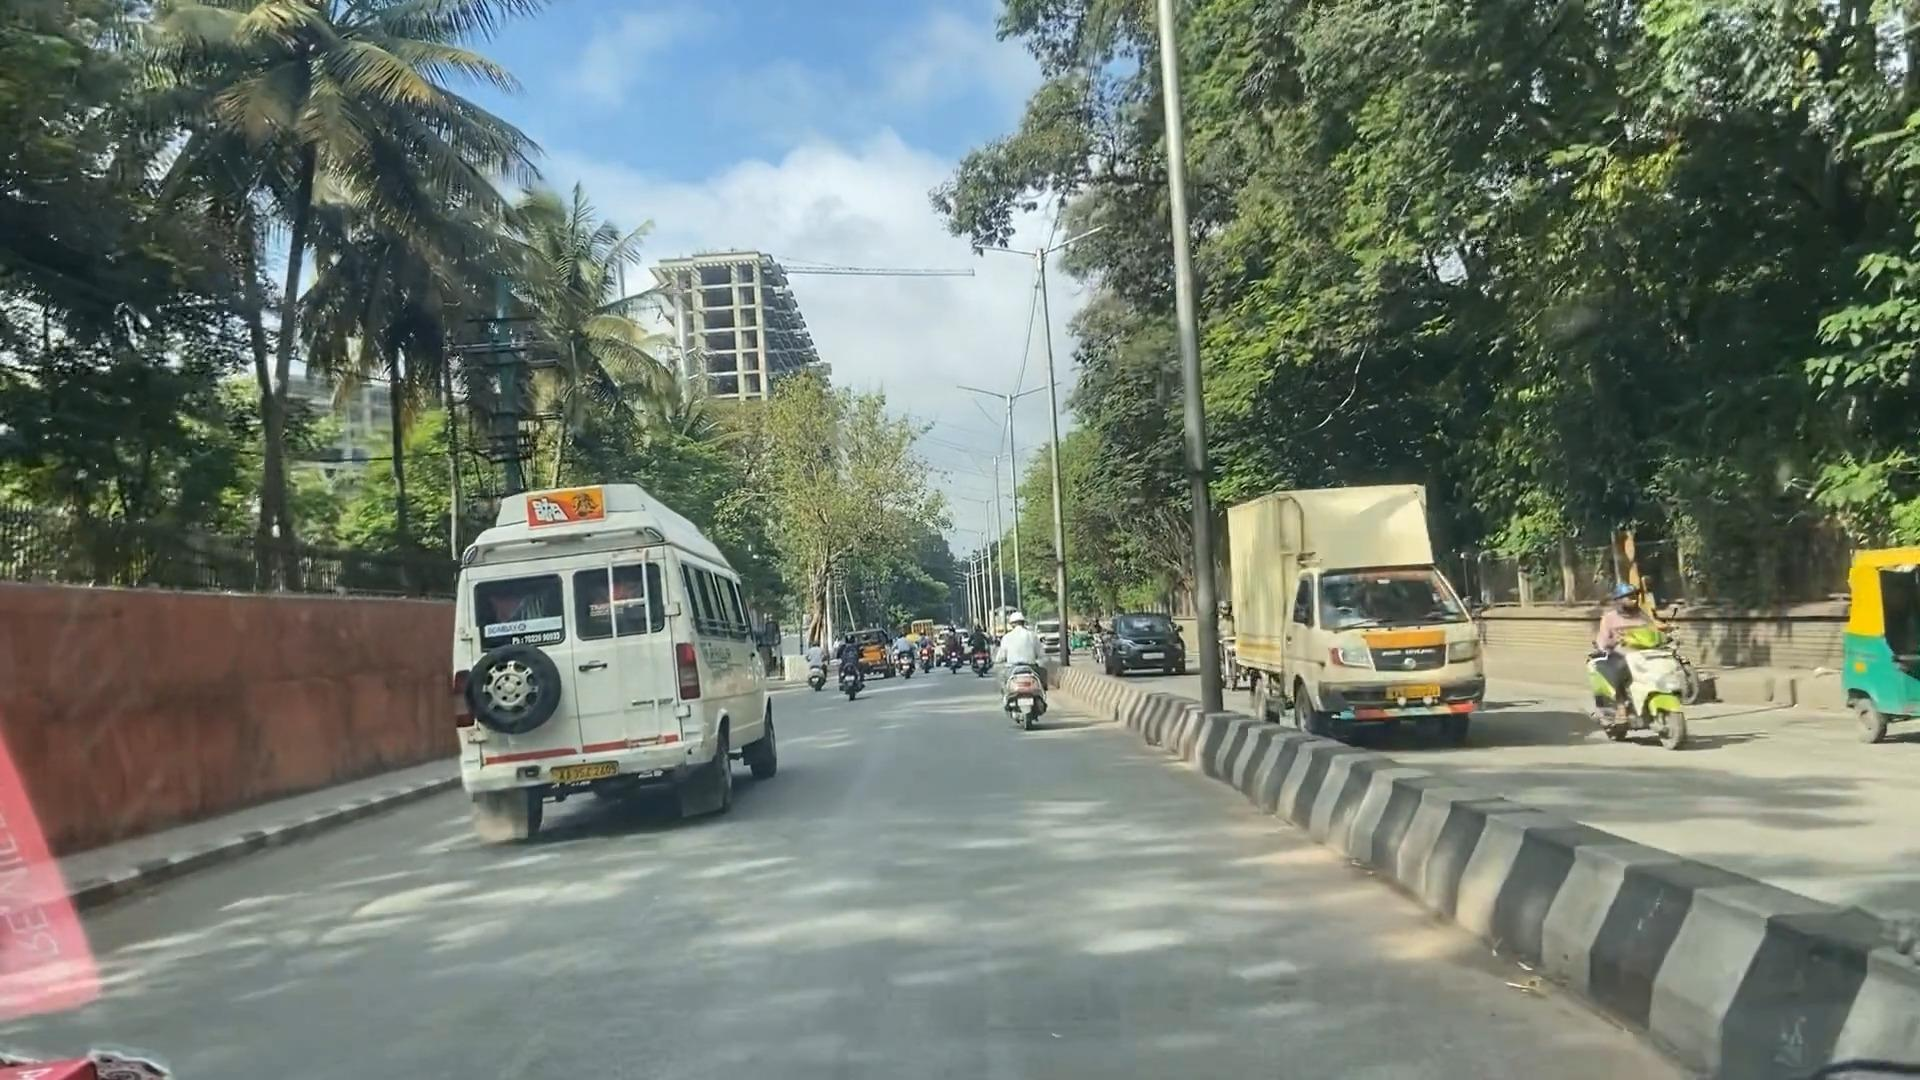HMV: (454, 476, 775, 816)
